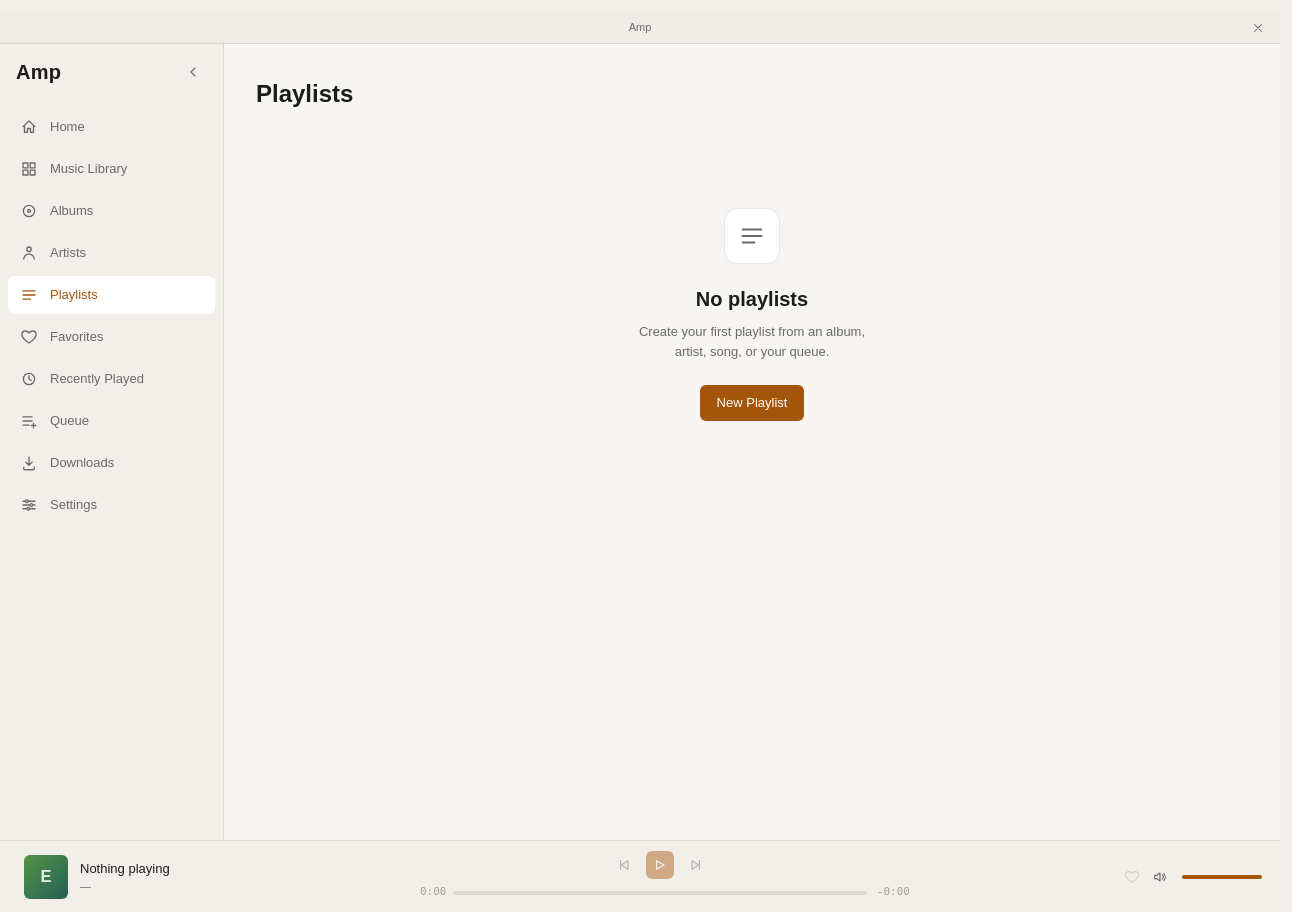
Scenario: App › collapses and expands the sidebar without losing the active view
This screenshot has width=1292, height=912.
Click the button "Albums". click: (112, 211)
box: [8,192,215,230]
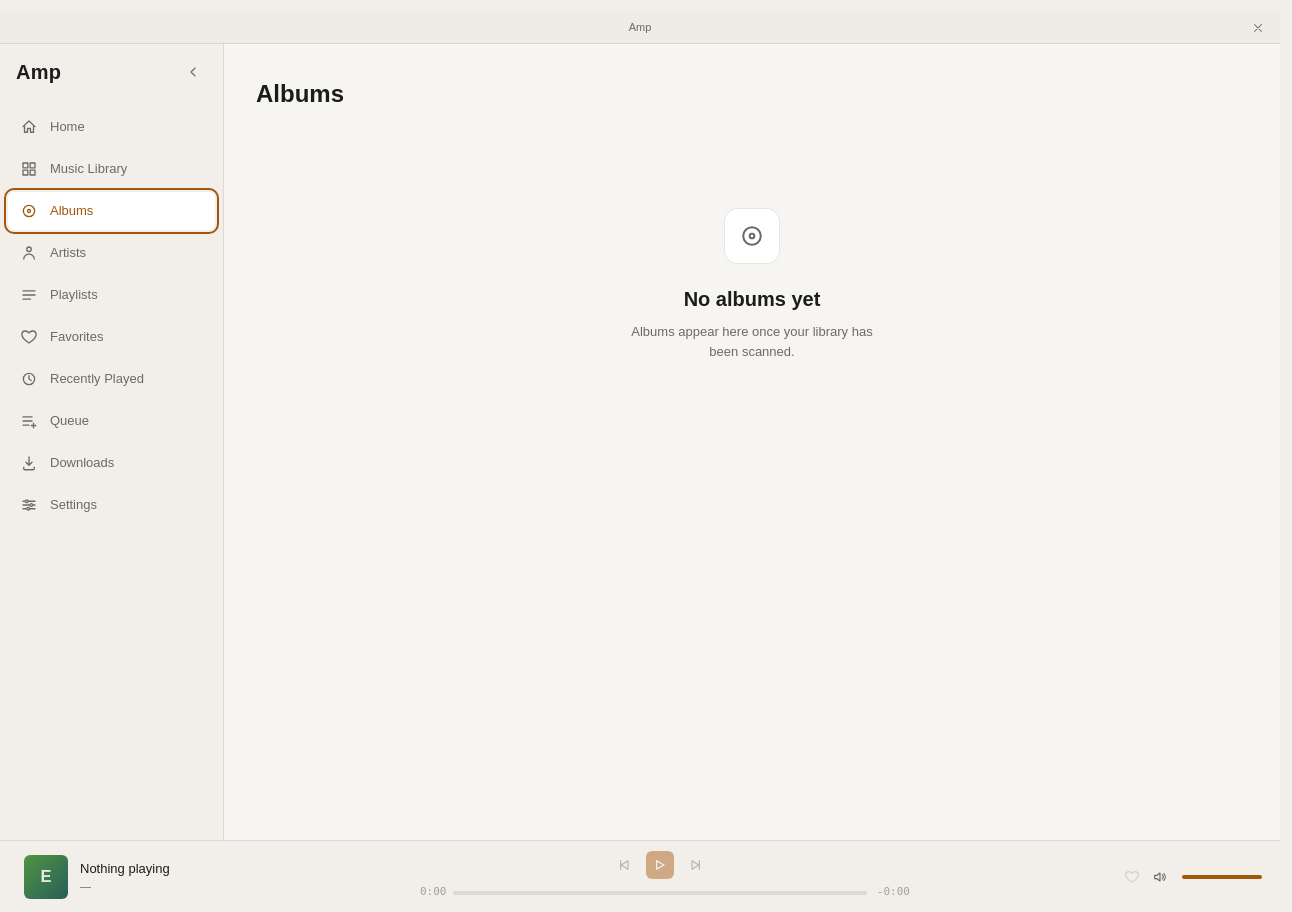
Now the heading "Albums" is shown, box [256,80,344,107]
Click the button named "Collapse sidebar". click: (193, 72)
box: [179,58,207,86]
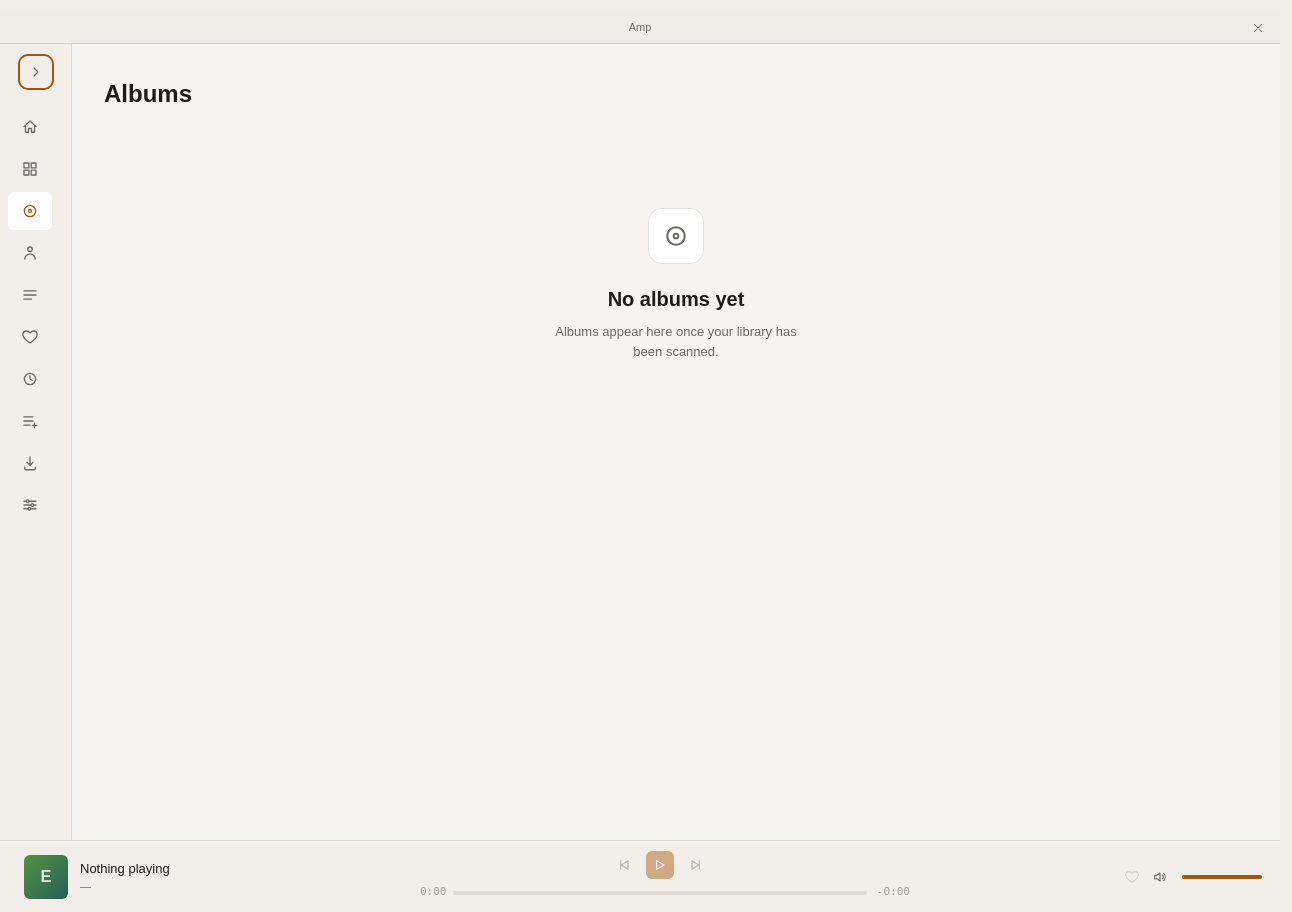
Now the heading "Albums" is shown, box [104,80,192,107]
Now the button named "Expand sidebar" is shown, box [22,58,50,86]
